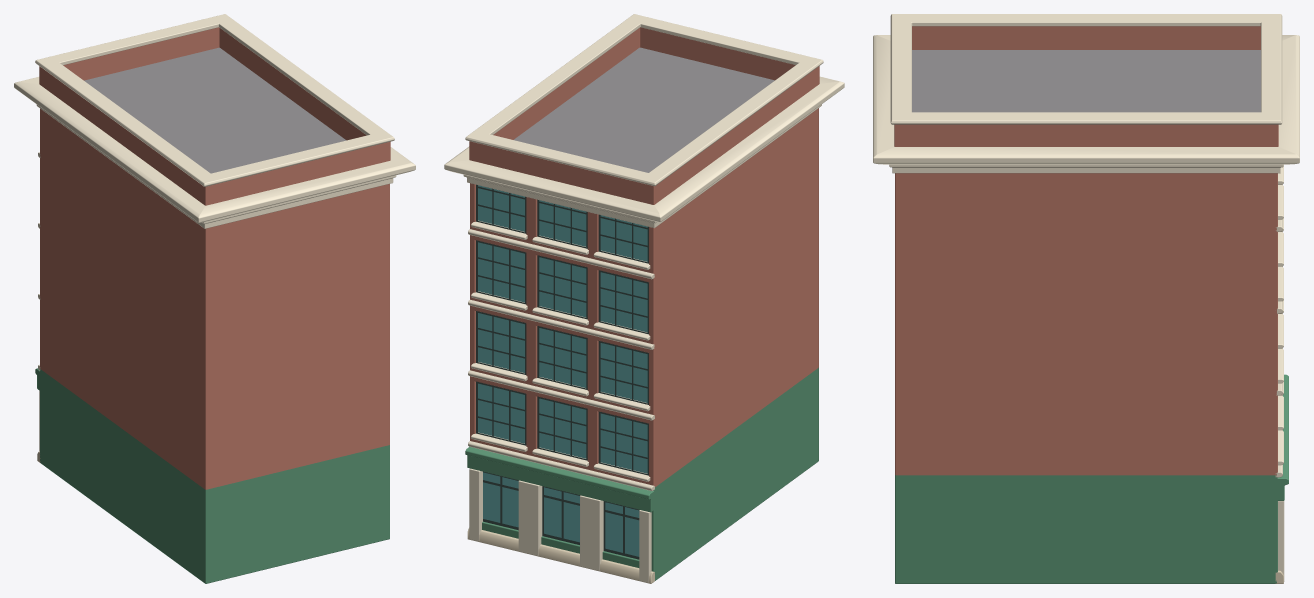
Rendered from far_loft_red_4.glb.
The picture shows the model from 3 angles, left to right: view 1: azimuth 30°, elevation 25°; view 2: azimuth 150°, elevation 25°; view 3: azimuth 270°, elevation 25°; orthographic projection. The views are drawn at different scales.
Parts seen in each view (by area): view 1: shell, trim; view 2: shell, trim, frames; view 3: shell, trim.
Boxes of the visible parts, box(x1,y1,x2,y2) form: shell: box(40, 47, 389, 583); trim: box(14, 14, 415, 463); shell: box(470, 47, 818, 580); trim: box(444, 14, 844, 583); frames: box(476, 184, 648, 559); shell: box(895, 50, 1277, 583); trim: box(873, 14, 1299, 583).
Bounding box in the file's own units: 10.6 × 18.75 × 15.6.
